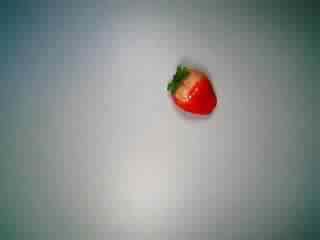strawberry: (155, 56, 221, 118)
